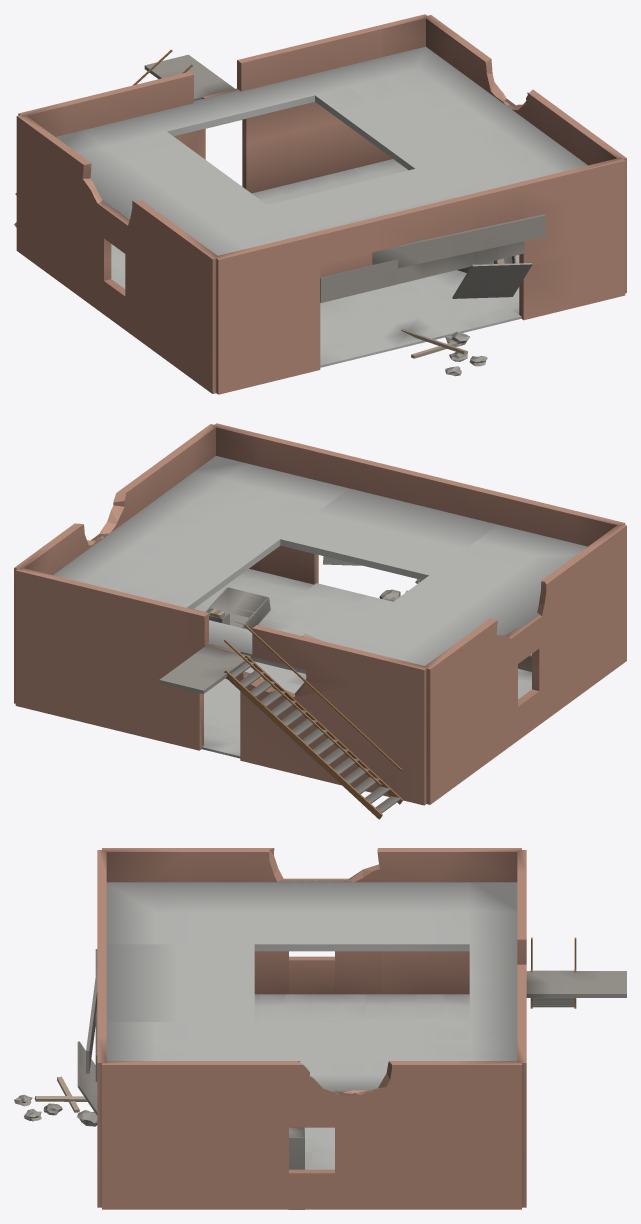
The model's file is loja_r1.glb.
The picture shows the model from 3 angles, top to bottom: view 1: azimuth 30°, elevation 25°; view 2: azimuth 150°, elevation 25°; view 3: azimuth 270°, elevation 25°; orthographic projection. The views are drawn at different scales.
Parts seen in each view (by area): view 1: longe, ext, dentro, detalhe; view 2: longe, ext, dentro, detalhe; view 3: longe, ext, dentro, detalhe.
Part boxes in pixels (bbox=[...]): longe: bbox=[14, 14, 626, 302]; ext: bbox=[16, 88, 626, 394]; dentro: bbox=[111, 159, 521, 367]; detalhe: bbox=[144, 54, 532, 376]; longe: bbox=[14, 423, 626, 819]; ext: bbox=[14, 533, 626, 805]; dentro: bbox=[193, 569, 531, 758]; detalhe: bbox=[159, 556, 531, 693]; longe: bbox=[86, 848, 576, 1095]; ext: bbox=[97, 878, 526, 1209]; dentro: bbox=[254, 994, 469, 1209]; detalhe: bbox=[14, 971, 626, 1126].
Size of what is drawn, in the model's own units: 12.22 by 4.81 by 14.6.
